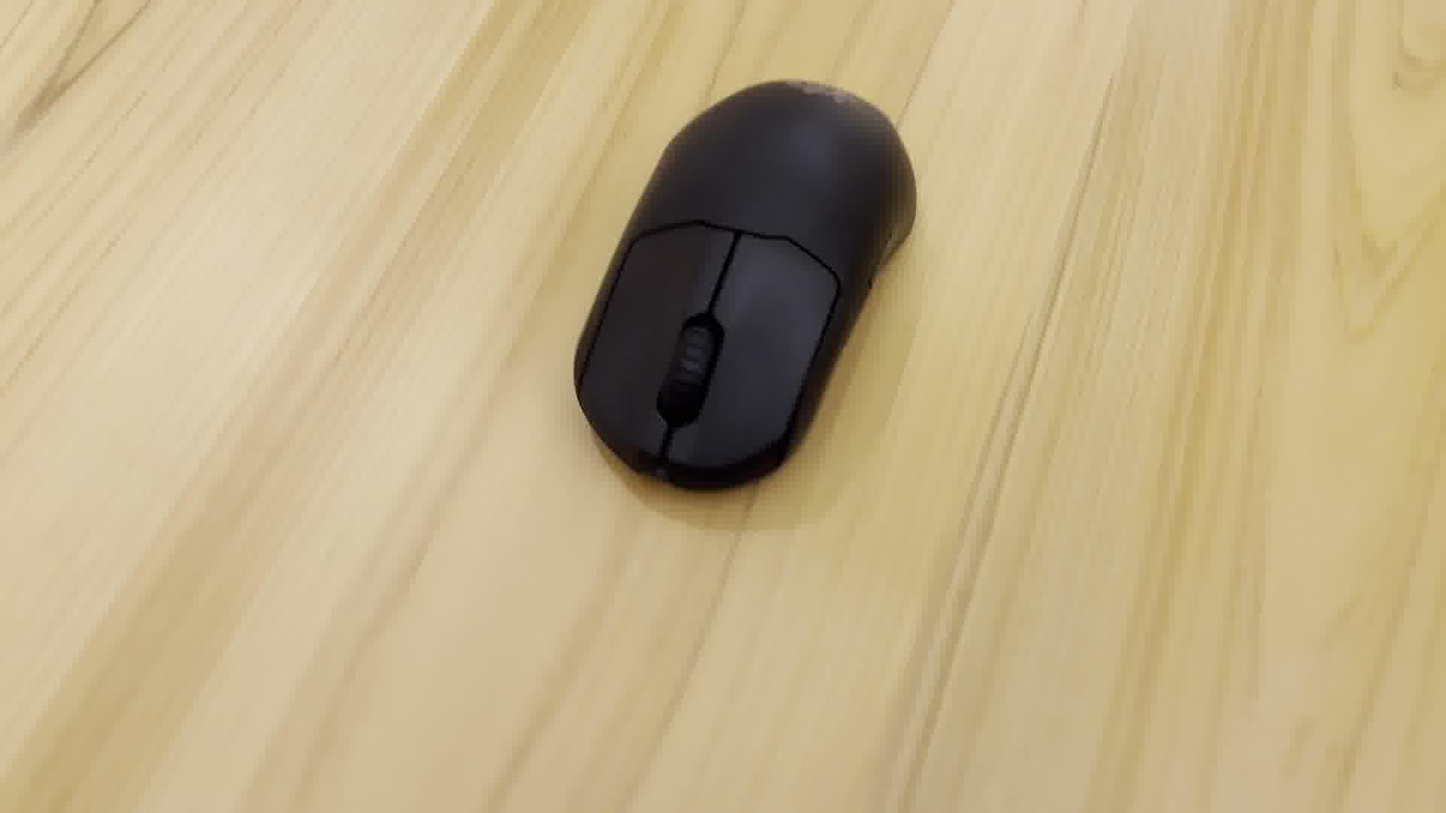mouse: (559, 65, 945, 505)
